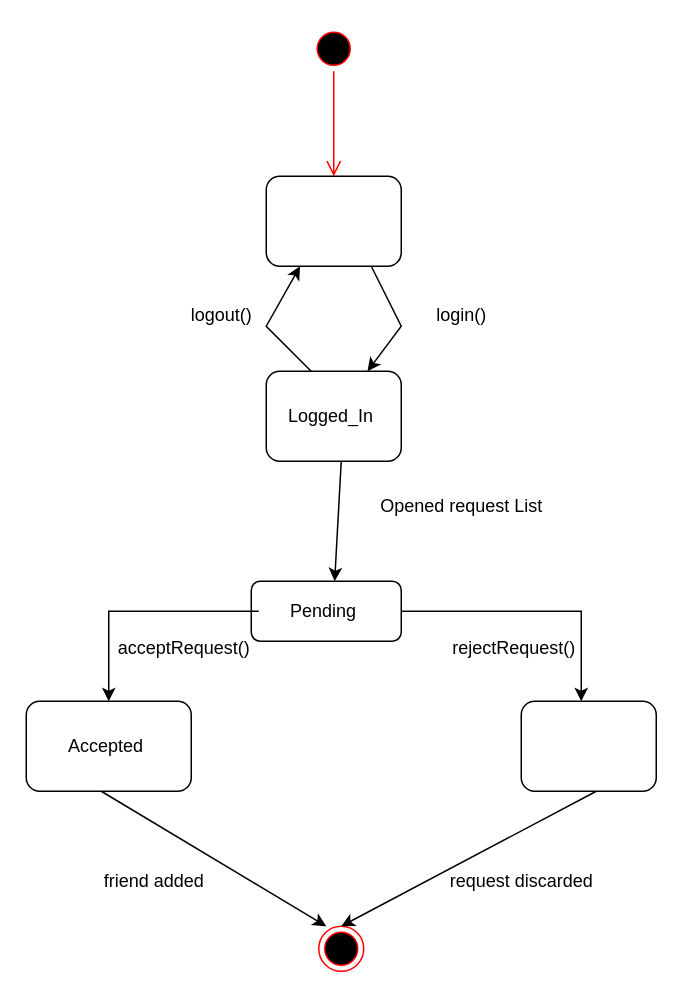
Some shapes in this 683 by 998 pixel diagram are drawn without their labels. The shapes that lost their labels are listed below. From the top down, each one's centre as x and y in pixels, then its label:
[333,220]: Logged_Out
[588,745]: Rejected
